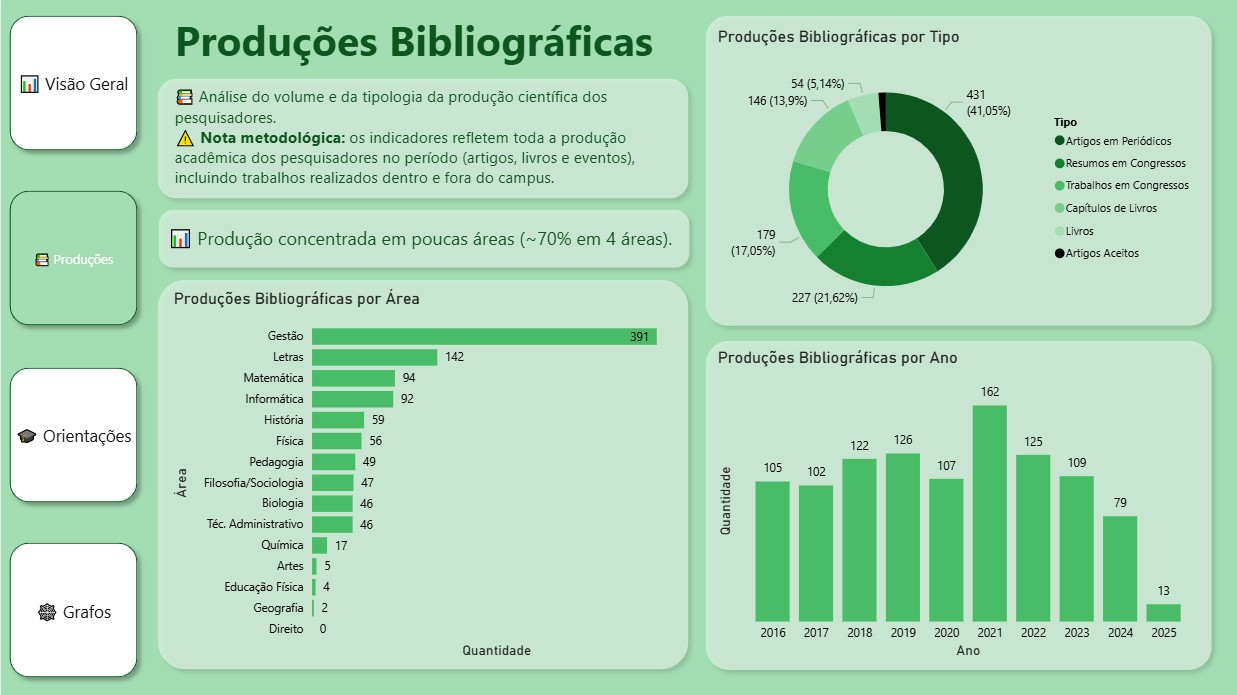

Layout of this report page (visuals, bound fields, positions):
{"tool":"powerbi","page":{"name":"📚 Produções","canvas":[1280,720],"ordinal":1},"visuals":[{"type":"shape","box":[720,343,541.4,358.6],"z":0},{"type":"shape","box":[720,7.1,541.4,338.7],"z":1000},{"type":"shape","box":[153.1,280.6,566.9,420.9],"z":2000},{"type":"clusteredColumnChart","title":"Produções Bibliográficas por Ano","fields":{"Category":["Fato_Producoes.Ano"],"Y":["Sum(Fato_Producoes.Qtd produções)"]},"box":[737,360,507.4,326],"z":3000},{"type":"donutChart","fields":{"Category":["Fato_Producoes.Tipo produção"],"Y":["Sum(Fato_Producoes.Qtd produções)"]},"box":[736.7,28.3,506.7,316.7],"z":4000},{"type":"clusteredBarChart","title":"Produções Bibliográficas por Área","fields":{"Category":["Dim_Pesq_Areas.Rótulo/Grupo"],"Y":["Sum(Fato_Producoes.Qtd produções)"]},"box":[174.3,298.6,535.7,387.1],"z":5000},{"type":"shape","box":[153.1,72.3,566.9,141.7],"z":6000},{"type":"textbox","box":[174.3,83.6,545.7,119.1],"z":7000},{"type":"textbox","box":[174.3,7.1,525.8,86.5],"z":8000},{"type":"shape","box":[0,7.1,150,157.1],"z":9000},{"type":"shape","box":[0,188.6,150,157.1],"z":10000},{"type":"shape","box":[0,371.4,150,157.1],"z":11000},{"type":"shape","box":[0,552.9,150,157.1],"z":12000},{"type":"pageNavigator","box":[0,0,150,720],"z":13000},{"type":"shape","box":[154.5,208.3,566.9,78],"z":14000},{"type":"textbox","box":[168.7,228.2,545.7,55.3],"z":15000}]}

Visuals, with their boxes in screenshot pixels (x1, y1, x2, y2), scaled from the page's 1280x720 canvas onto the 1237x695 screenshot:
shape: select_region(696, 331, 1219, 677)
shape: select_region(696, 7, 1219, 334)
shape: select_region(148, 271, 696, 677)
"Produções Bibliográficas por Ano" clusteredColumnChart: select_region(712, 348, 1203, 662)
donutChart - Fato_Producoes.Tipo produção x Sum(Fato_Producoes.Qtd produções): select_region(712, 27, 1202, 333)
"Produções Bibliográficas por Área" clusteredBarChart: select_region(168, 288, 686, 662)
shape: select_region(148, 70, 696, 207)
textbox: select_region(168, 81, 696, 196)
textbox: select_region(168, 7, 677, 90)
shape: select_region(0, 7, 145, 158)
shape: select_region(0, 182, 145, 334)
shape: select_region(0, 359, 145, 510)
shape: select_region(0, 534, 145, 685)
pageNavigator: select_region(0, 0, 145, 694)
shape: select_region(149, 201, 697, 276)
textbox: select_region(163, 220, 690, 274)
